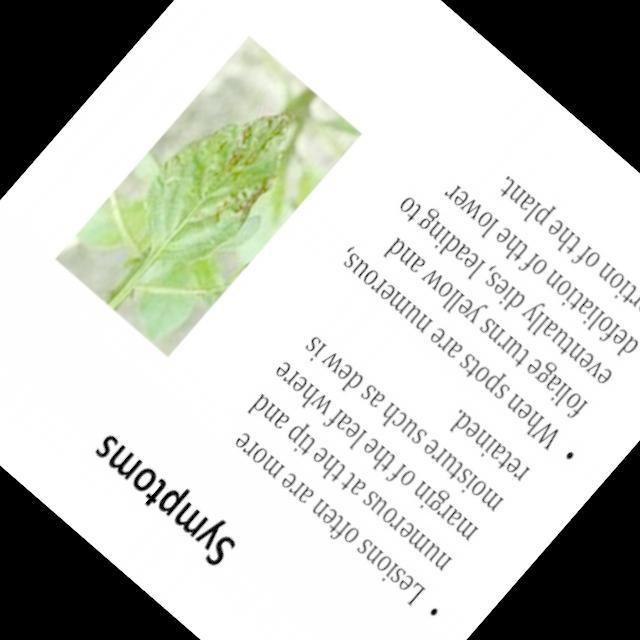Tomato bacterial spot leaf: (112, 66, 326, 290)
